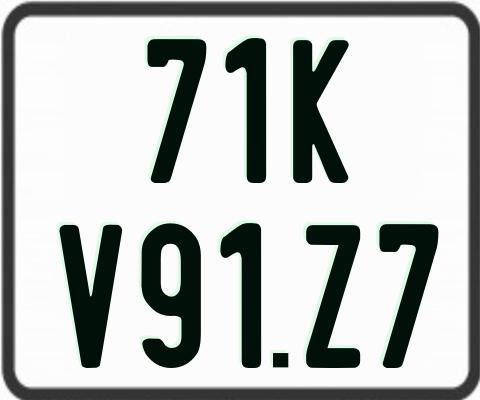1: (225, 35, 271, 184), (217, 222, 258, 368)
7: (379, 222, 440, 369), (144, 39, 203, 186)
9: (138, 221, 201, 370)
K: (291, 37, 347, 185)
V: (57, 225, 124, 369)
Z: (306, 225, 361, 372)
